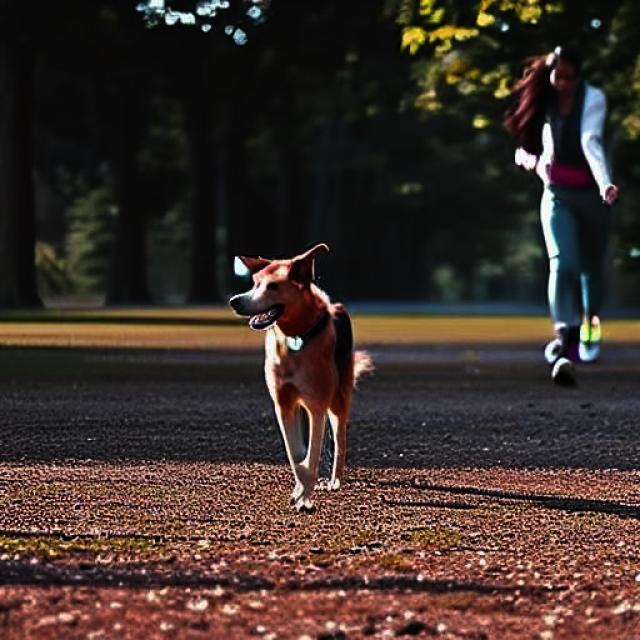Unleashed_Dog: (229, 179, 600, 511)
